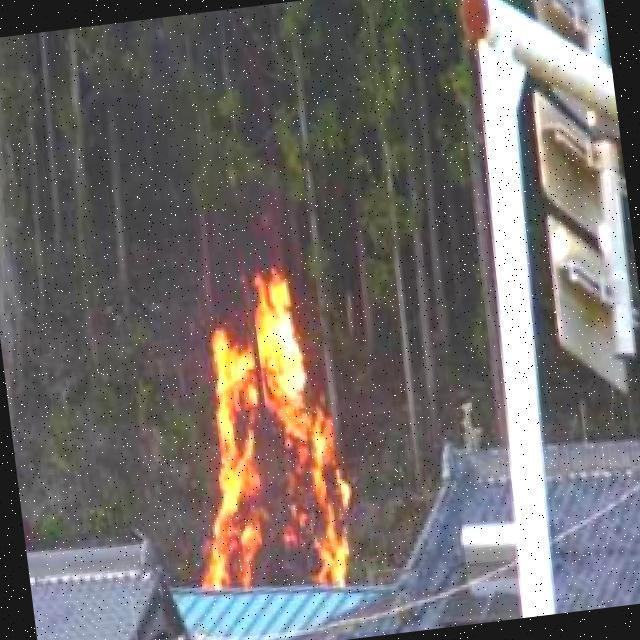Fire: (167, 256, 368, 591)
